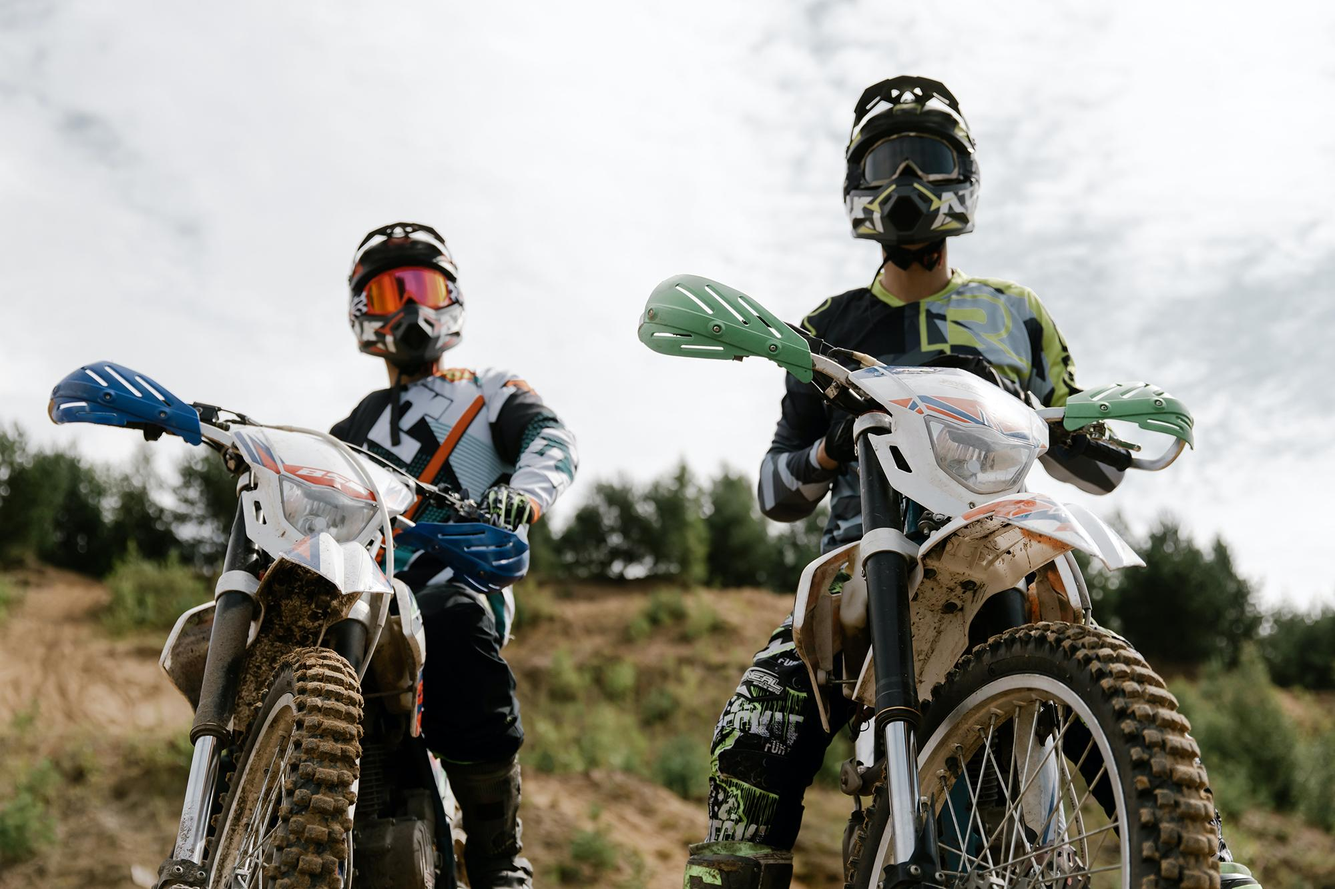helmet: (842, 74, 982, 247), (346, 221, 467, 376)
